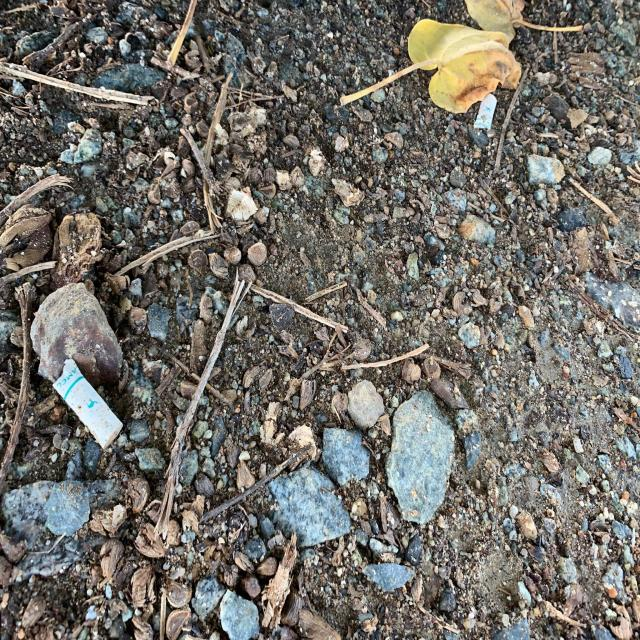litter: (51, 358, 124, 452), (473, 95, 499, 132)
